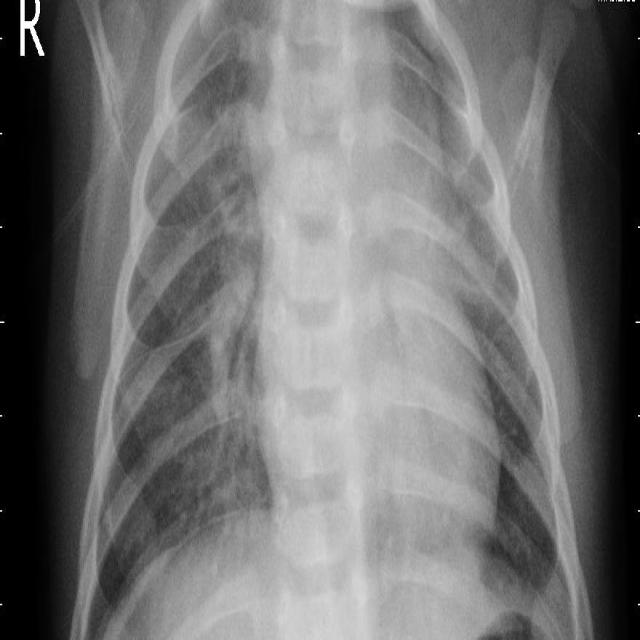low-pneumonia: (409, 42, 512, 303), (203, 171, 266, 453), (204, 15, 274, 177)
